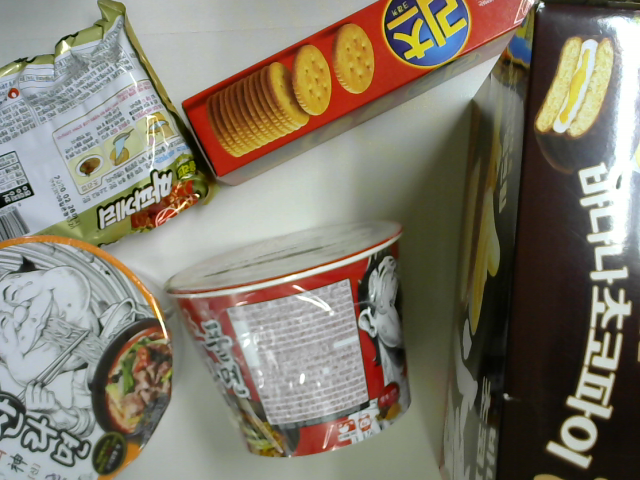Choco_Pie_Banana: (432, 1, 640, 480)
Hejangchan: (1, 222, 186, 478)
Hejangpul: (164, 200, 418, 468)
Olive_Chapaghetti: (1, 3, 214, 267)
Ritz_Cracker: (180, 1, 555, 192)
